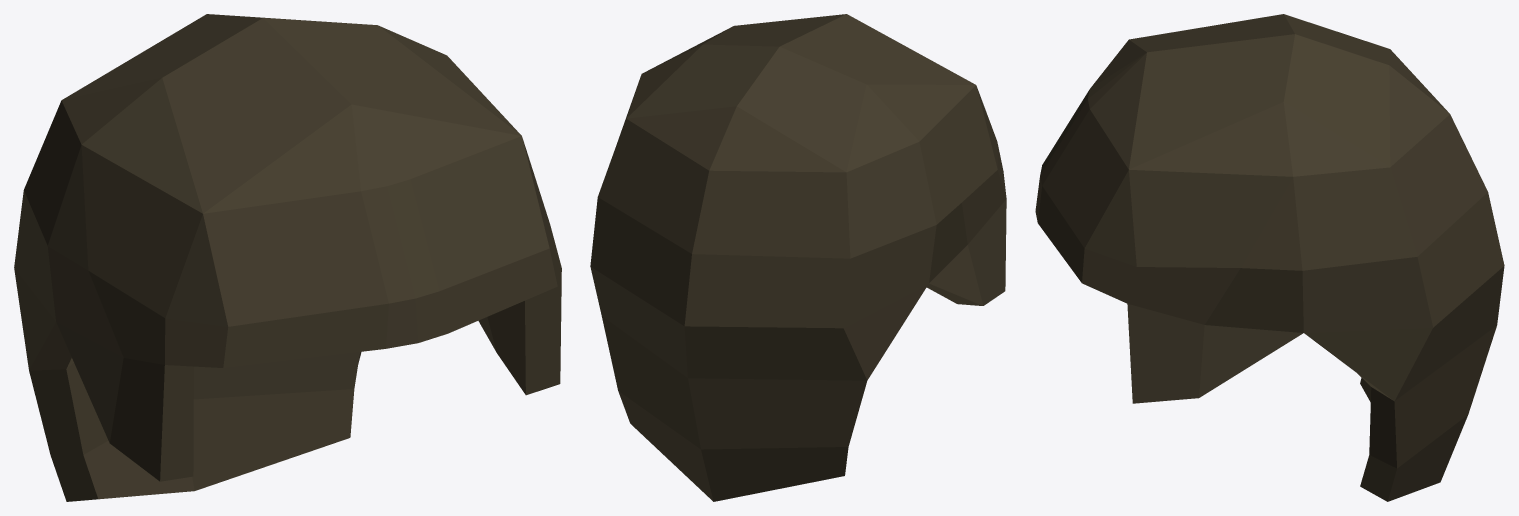
The model's file is Male_Male Hairstyles_OBJ_Male_Hairstyle_3.glb.
3 views of the same model, side by side, from view 1: azimuth 30°, elevation 25°; view 2: azimuth 150°, elevation 25°; view 3: azimuth 270°, elevation 25° (orthographic). The views are drawn at different scales.
Visible parts, largest first — view 1: Male_Hairstyle_3_Human_CylinderMesh.005; view 2: Male_Hairstyle_3_Human_CylinderMesh.005; view 3: Male_Hairstyle_3_Human_CylinderMesh.005.
Boxes of the visible parts, x1=… form: Male_Hairstyle_3_Human_CylinderMesh.005: x1=14, y1=14, x2=561, y2=501; Male_Hairstyle_3_Human_CylinderMesh.005: x1=590, y1=14, x2=1006, y2=501; Male_Hairstyle_3_Human_CylinderMesh.005: x1=1035, y1=14, x2=1504, y2=501.
Size of the model in its own units: 0.5204 by 0.631 by 0.5983.
